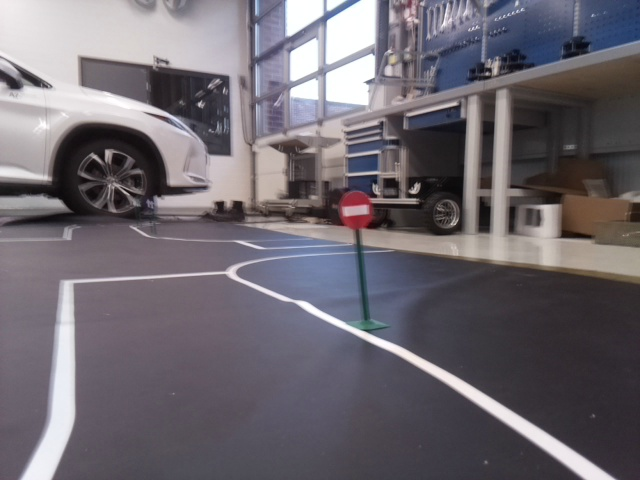NoEntry: (338, 188, 374, 227)
